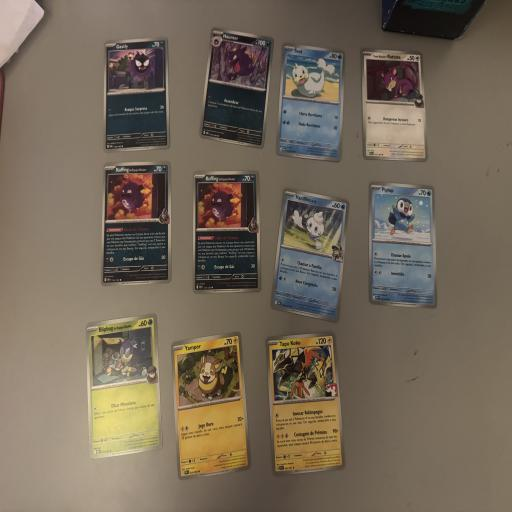card: (261, 332, 347, 476), (171, 331, 252, 480), (85, 312, 163, 459), (270, 187, 353, 323), (198, 27, 277, 149), (101, 161, 172, 287), (369, 182, 437, 308), (276, 43, 347, 163), (193, 170, 261, 294), (103, 37, 171, 154), (361, 48, 428, 164)
